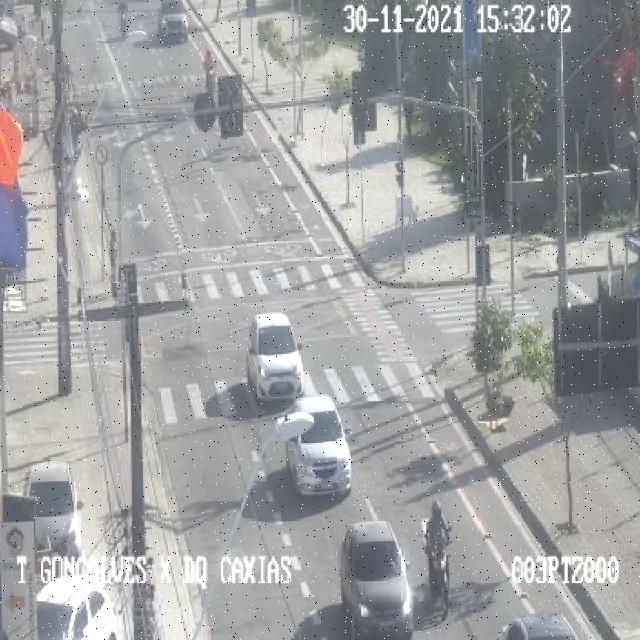Car: (341, 520, 414, 640), (282, 396, 355, 497), (22, 461, 85, 564), (34, 578, 126, 640), (246, 312, 304, 403), (495, 613, 580, 640), (158, 0, 188, 42)
Cycle: (422, 532, 458, 616), (200, 61, 222, 99), (117, 6, 131, 40)
